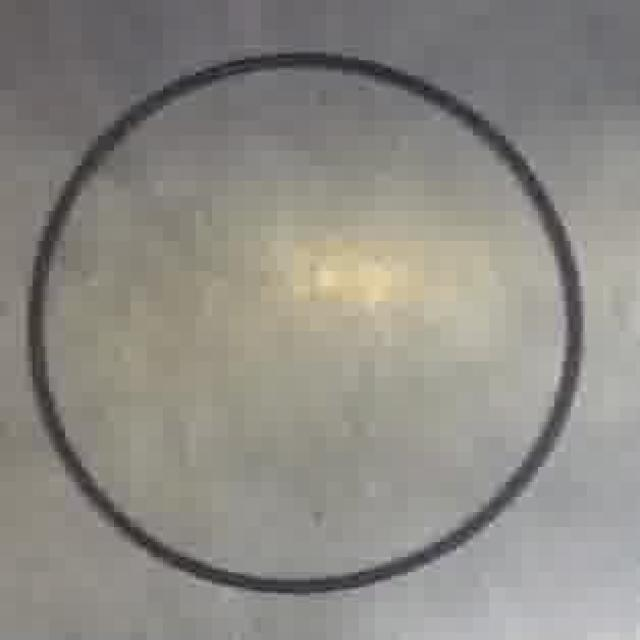Circle: (26, 49, 588, 593)
